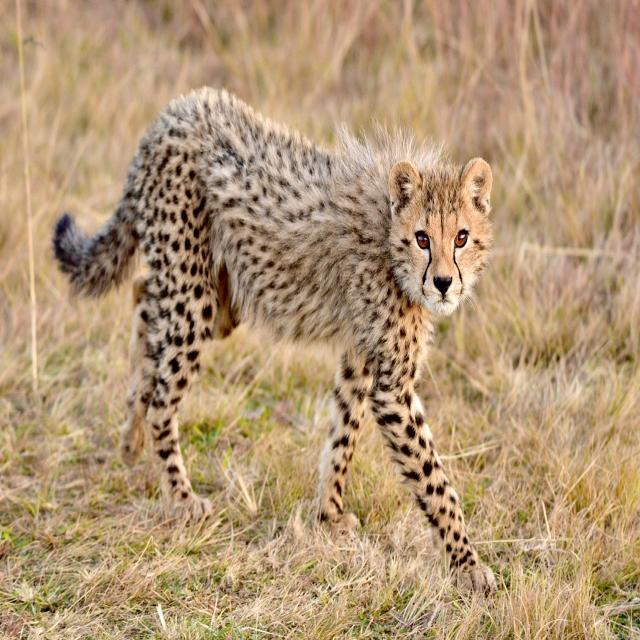Cheetah: (57, 80, 501, 599)
